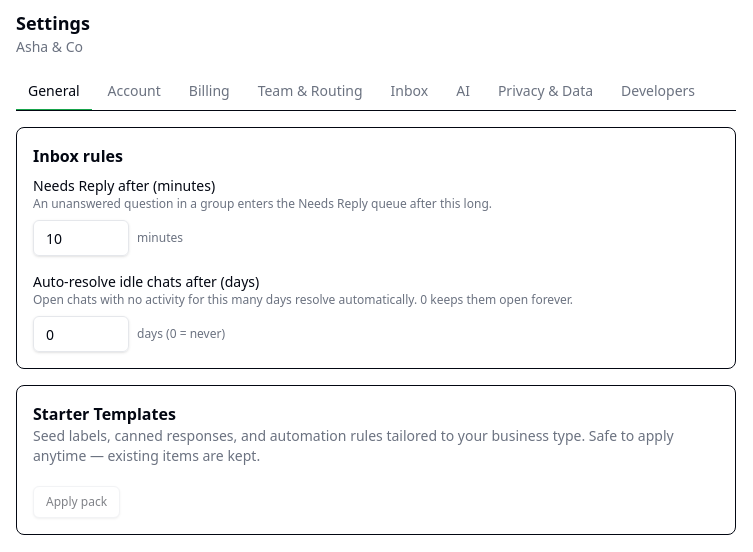
Test: SettingsPage › billing tab shows plan, status and wallet balance for managers
Step 1. Click the tab "Billing" → click(209, 92), box [177,73,242,111]
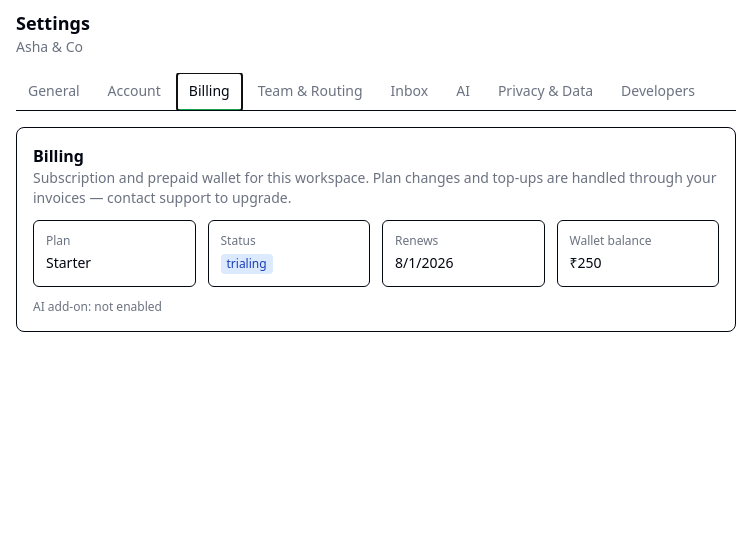
Now the text "trialing" is shown, box [220,254,273,274]
Now the text "₹250" is shown, box [570,253,602,272]
Now the text "AI add-on: not enabled" is shown, box [33,298,162,315]
